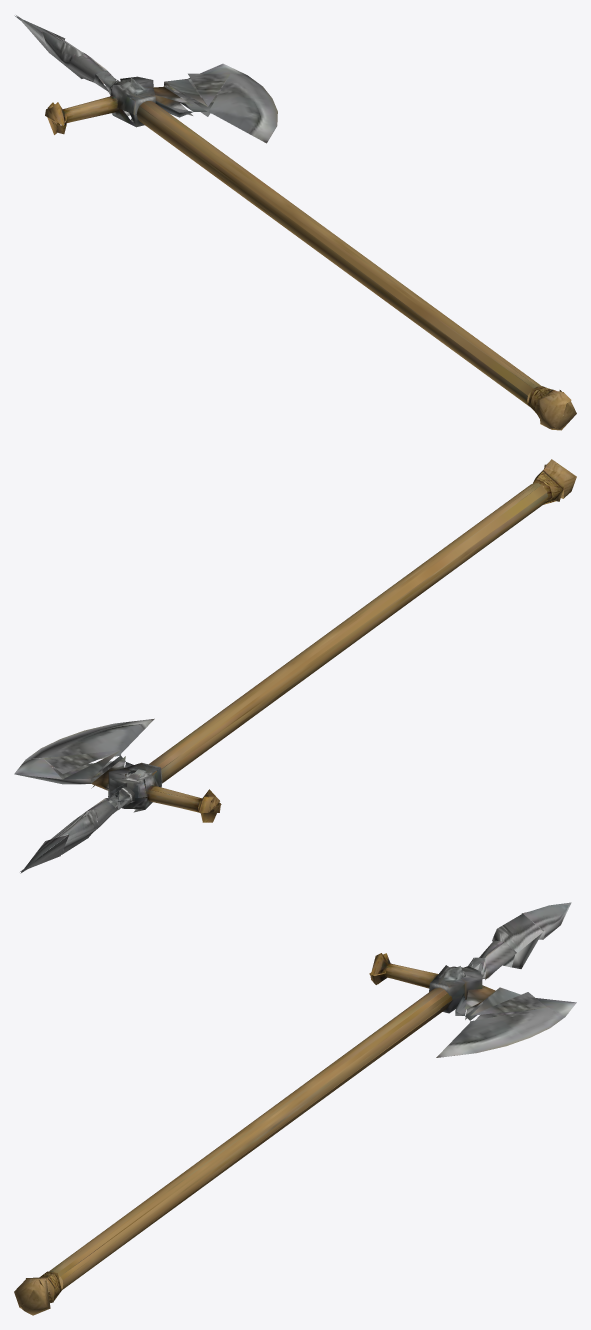
The model's file is halberd_lod1.fbx.
3 renders of one model, top to bottom at view 1: azimuth 30°, elevation 25°; view 2: azimuth 150°, elevation 25°; view 3: azimuth 330°, elevation 25°, orthographic.
Visible parts, largest first — view 1: tripo_node_c1977fa2-5332-41d4-bd4c-26038a578319; view 2: tripo_node_c1977fa2-5332-41d4-bd4c-26038a578319; view 3: tripo_node_c1977fa2-5332-41d4-bd4c-26038a578319.
Boxes of the visible parts, <box> form: tripo_node_c1977fa2-5332-41d4-bd4c-26038a578319: <box>14,15,576,430</box>; tripo_node_c1977fa2-5332-41d4-bd4c-26038a578319: <box>14,459,576,873</box>; tripo_node_c1977fa2-5332-41d4-bd4c-26038a578319: <box>14,902,576,1315</box>.
Bounding box in the file's own units: 0.4759 × 0.0978 × 2.33.
